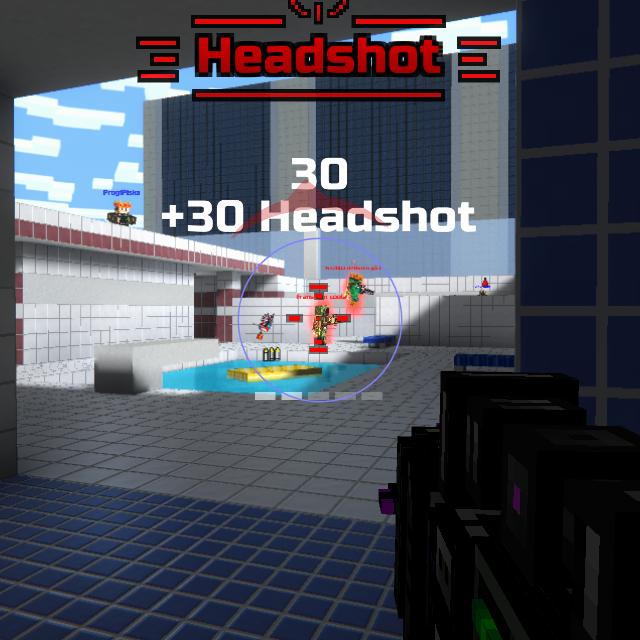Enemy: (313, 304, 335, 346), (346, 274, 365, 307)
